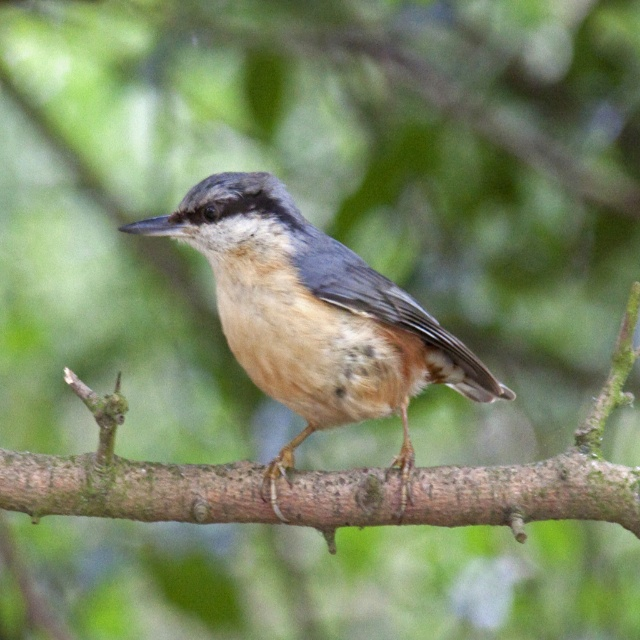Sparrow: (120, 167, 517, 521)
